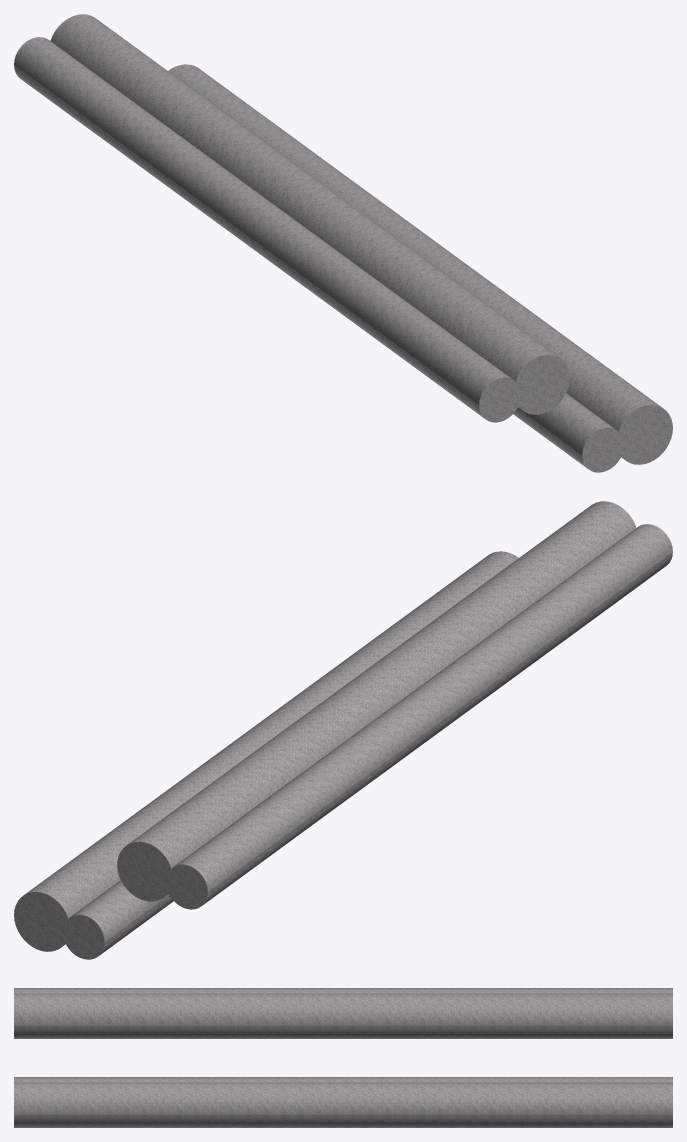
3 views of the same model, one above another, from view 1: azimuth 30°, elevation 25°; view 2: azimuth 150°, elevation 25°; view 3: azimuth 270°, elevation 25° (orthographic). The views are drawn at different scales.
Parts seen in each view (by area): view 1: 0_2_0_3_0_2_0_2; view 2: 0_2_0_3_0_2_0_2; view 3: 0_2_0_3_0_2_0_2.
Part boxes in pixels (<box>): 0_2_0_3_0_2_0_2: <box>14,14,672,472</box>; 0_2_0_3_0_2_0_2: <box>14,501,672,959</box>; 0_2_0_3_0_2_0_2: <box>14,988,672,1127</box>.
Bounding box in the file's own units: 2.77 × 1.83 × 11.53.
4 materials, 4 textured.
